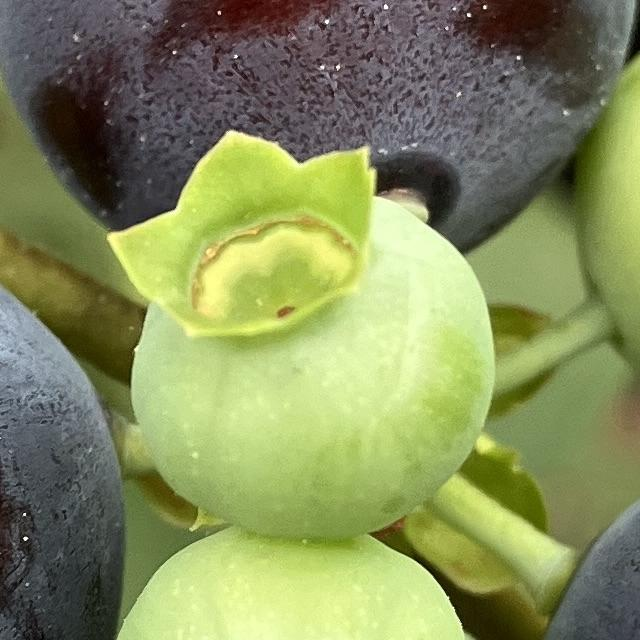Blueberries: (105, 119, 496, 550), (0, 0, 640, 257)
